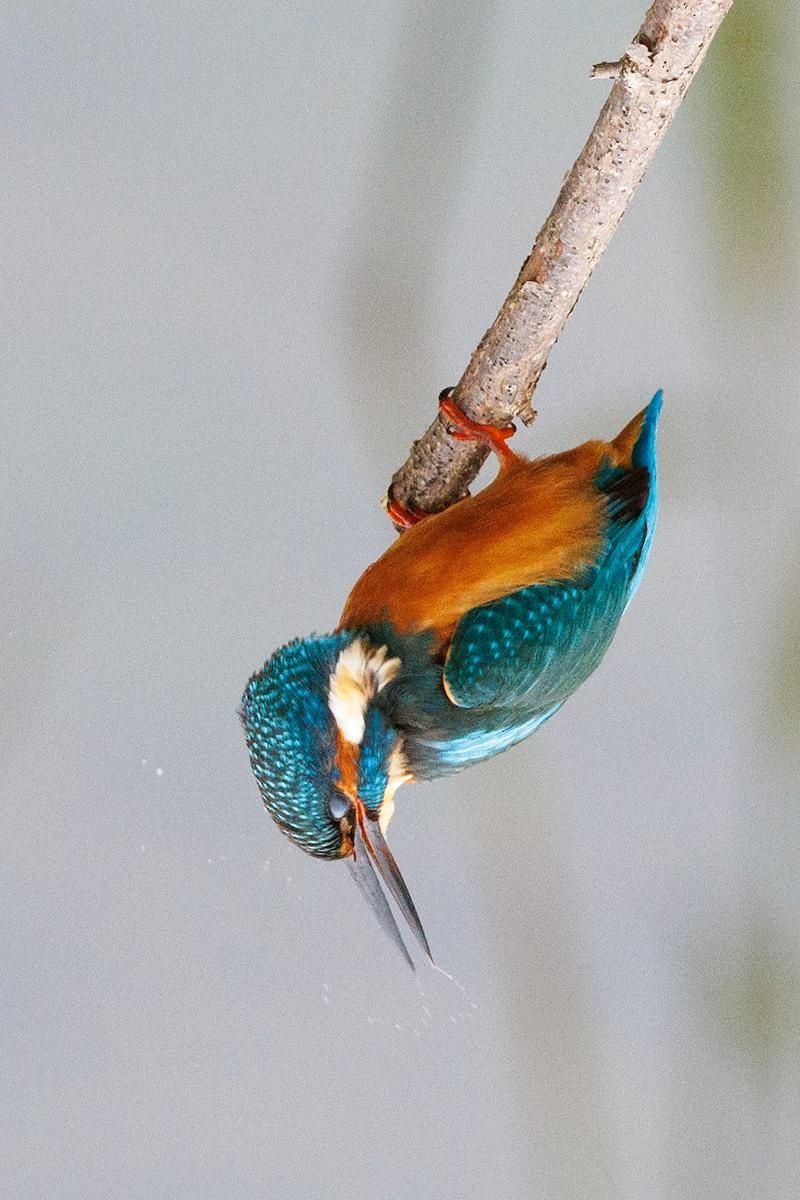kingfisher: (252, 354, 693, 975)
